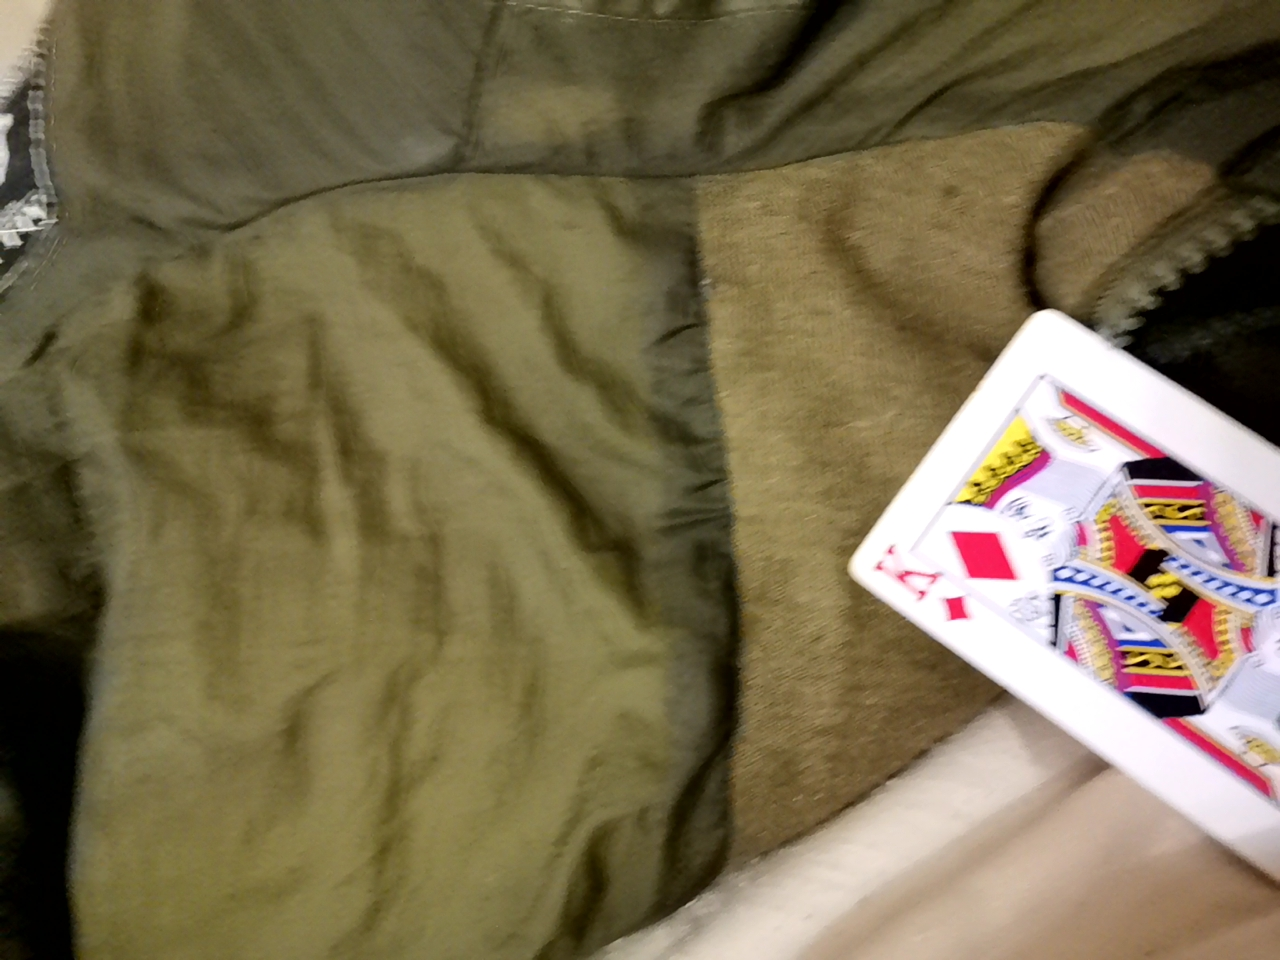fk k: (897, 310, 1280, 885)
